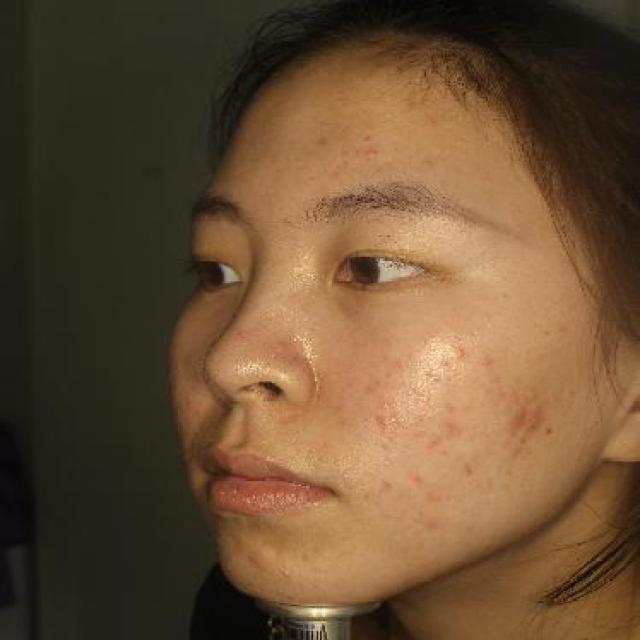Acne: (500, 396, 532, 432)
Whiteheads: (436, 354, 454, 372), (450, 346, 469, 360)
